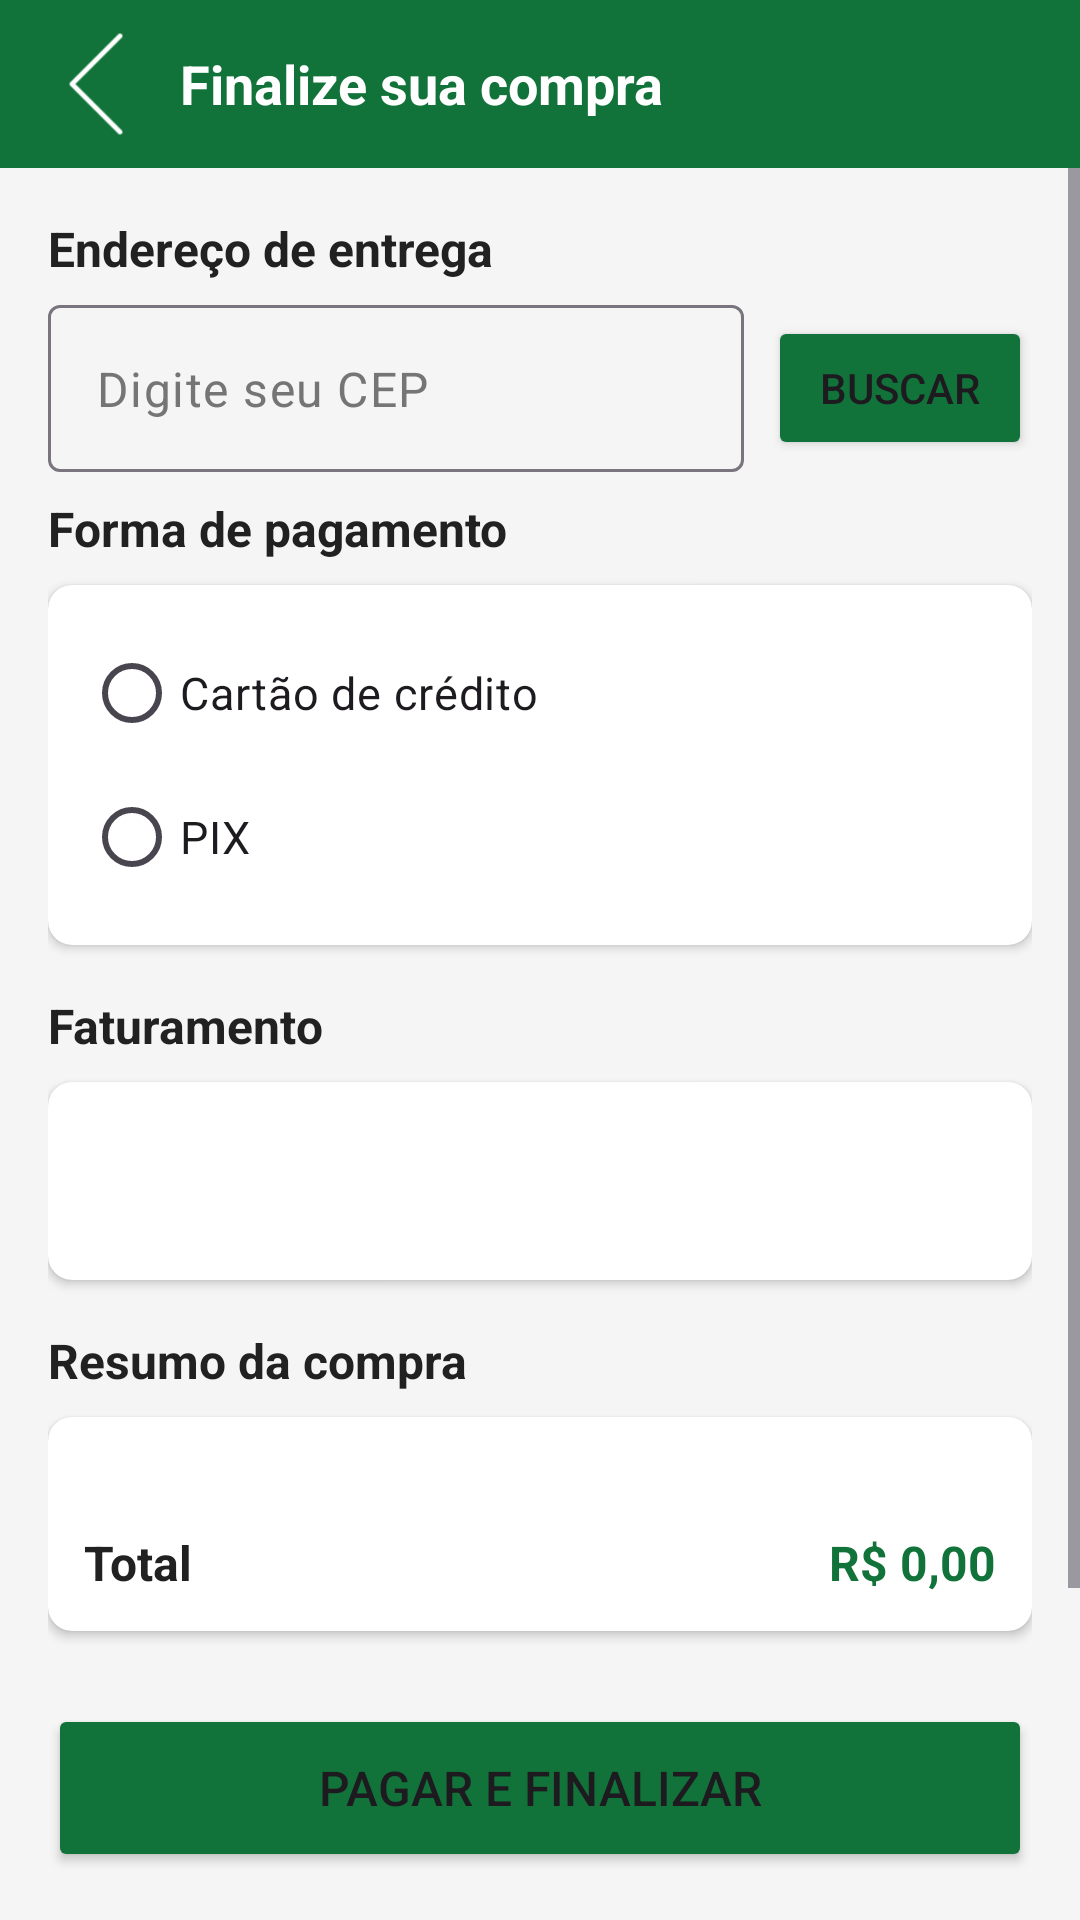

Screen size 1080 x 1920. Icon name, then its box in pixels as (x1, y1, x2, y2):
setaesquerda: (69, 33, 123, 135)
